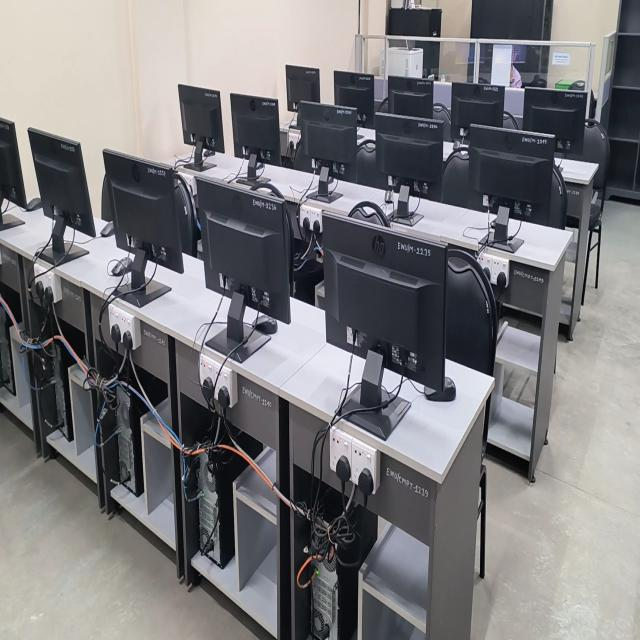Chair: (446, 245, 498, 375), (580, 119, 610, 231), (441, 148, 485, 211), (175, 175, 201, 257), (355, 139, 390, 189), (548, 161, 567, 229), (236, 178, 284, 200), (349, 204, 384, 226), (433, 103, 452, 141), (503, 111, 519, 129)
Cpu: (312, 559, 337, 639), (199, 457, 219, 554), (117, 389, 134, 481), (53, 346, 68, 439), (0, 308, 14, 392)
Monitor: (323, 213, 448, 392), (198, 180, 293, 323), (103, 149, 184, 291), (28, 128, 95, 264), (467, 124, 554, 223), (298, 101, 357, 198), (375, 113, 443, 194), (522, 87, 587, 156), (230, 93, 281, 180), (178, 85, 224, 171), (0, 117, 40, 211), (451, 82, 505, 138), (334, 71, 375, 127), (378, 76, 433, 117), (285, 65, 320, 111)
Mouse: (425, 377, 456, 401), (109, 255, 133, 276), (253, 316, 277, 335), (385, 190, 393, 203)
